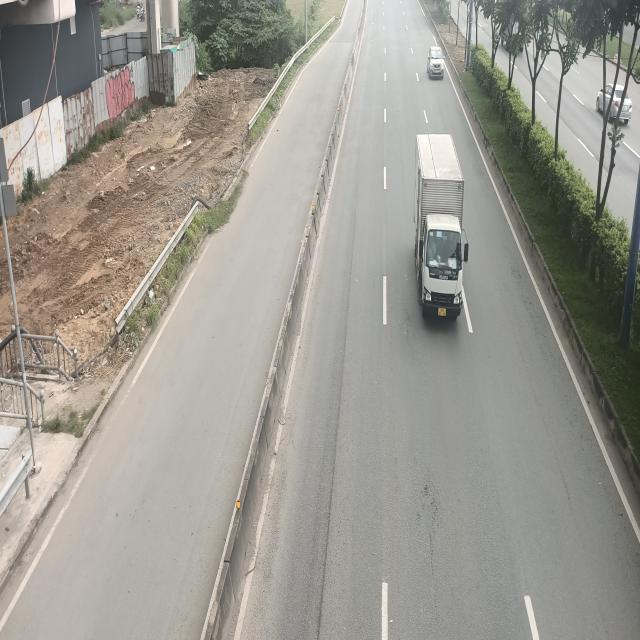car: (427, 46, 444, 80)
truck: (412, 132, 469, 322)
